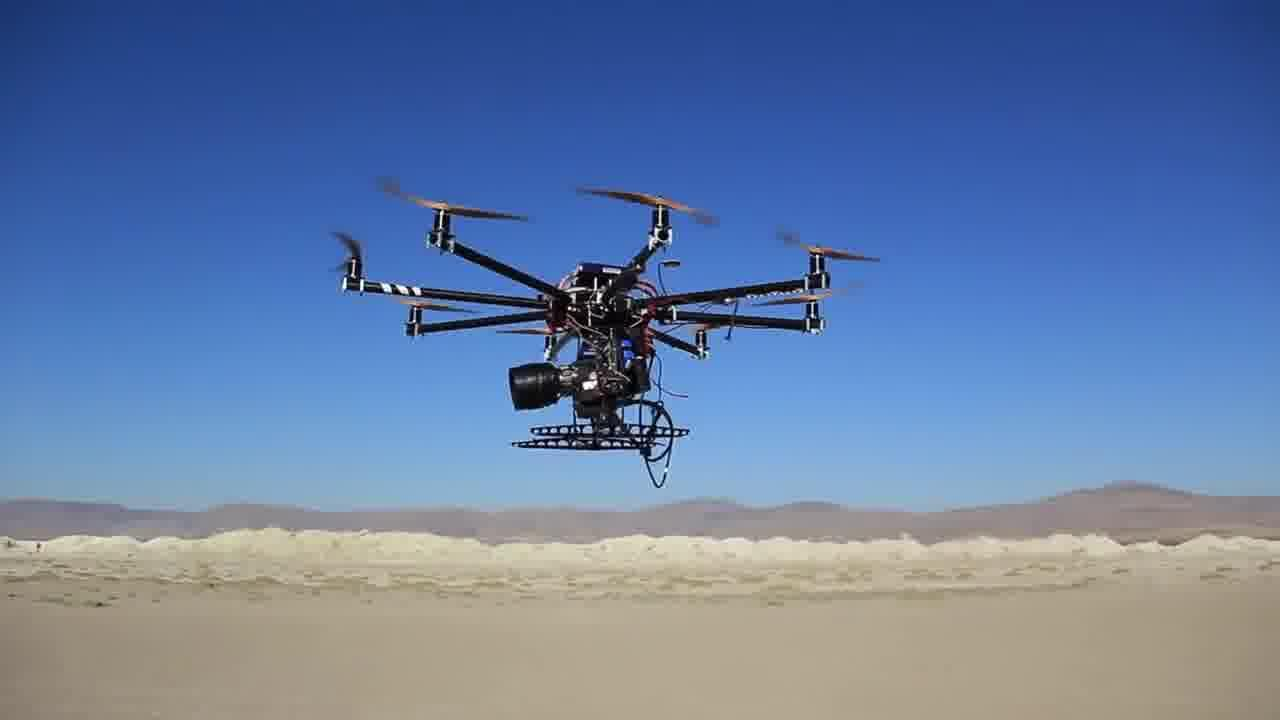drone: (325, 155, 829, 472)
